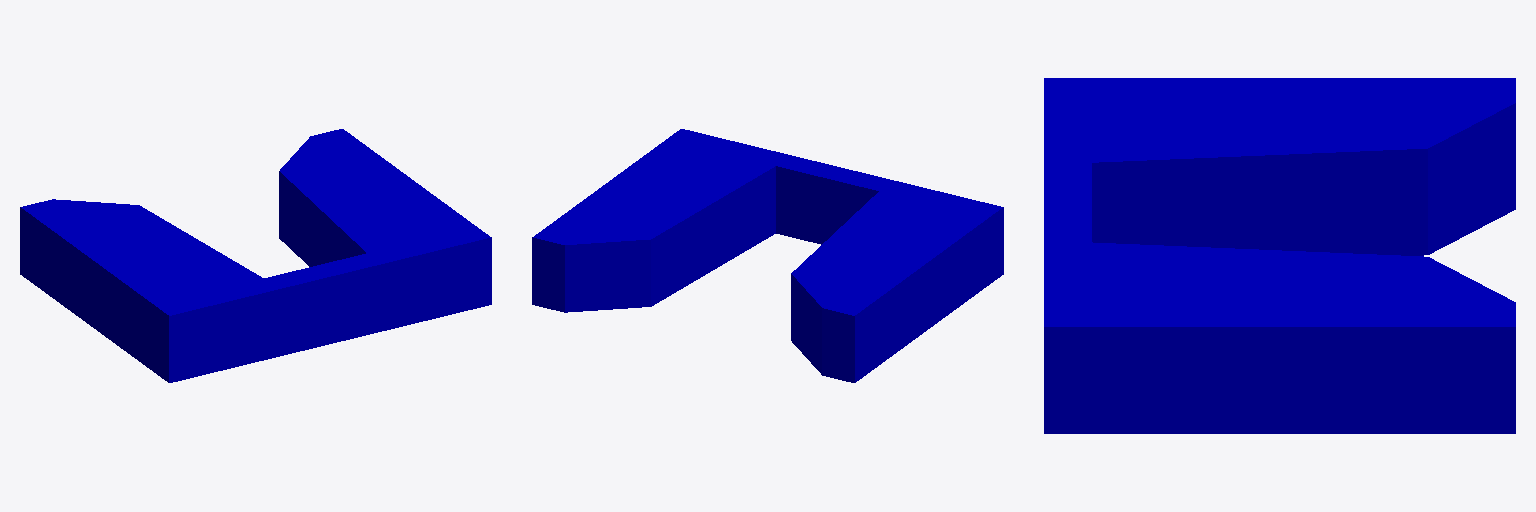
robot.urdf — receiver:
<?xml version="1.0" ?>
<robot name="receiver">
  <link name="baseLink">
    <contact>
      <lateral_friction value="0.3"/>
      <rolling_friction value="0."/>
	<restitution value="0.0" />
    </contact>
    <inertial>
      <origin rpy="0 0 0" xyz="0 0 0"/>
       <mass value="0."/>
       <inertia ixx="1.550E-05" ixy="0" ixz="0" iyy="1.550E-05" iyz="0" izz="3.060E-05"/>
    </inertial>
    <visual>
      <origin rpy="0 0 0" xyz="0 0 0"/>
      <geometry>
		<mesh filename="./socket_3.obj" scale="0.1 0.1 0.1"/>
      </geometry>
       <material name="green">
        <color rgba="0 0 0.8 1"/>
      </material>
    </visual>
    <collision concave="yes">
      <origin rpy="0 0 0" xyz="0 0 0"/>
      <geometry>
	 	<mesh filename="./socket_3.obj" scale="0.1 0.1 0.1"/>
      </geometry>
    </collision>
  </link>
</robot>

--- Facts derived from the render (not from the file) ---
The picture shows the robot from 3 angles, left to right: view 1: azimuth 30°, elevation 25°; view 2: azimuth 150°, elevation 25°; view 3: azimuth 270°, elevation 25°; orthographic projection.
Robot: receiver — 1 links, 0 joints (none); root link baseLink; default pose: every joint at zero.
Links seen in each view (by area): view 1: baseLink; view 2: baseLink; view 3: baseLink.
Boxes of the visible links, bbox=[...] form: baseLink: bbox=[20, 129, 491, 382]; baseLink: bbox=[532, 129, 1003, 382]; baseLink: bbox=[1044, 78, 1515, 433].
Size in the robot's own frame: 1 by 0.8 by 0.2 metres.
Meshes: 1 distinct files referenced, 1 mesh visuals loaded (1 OBJ).